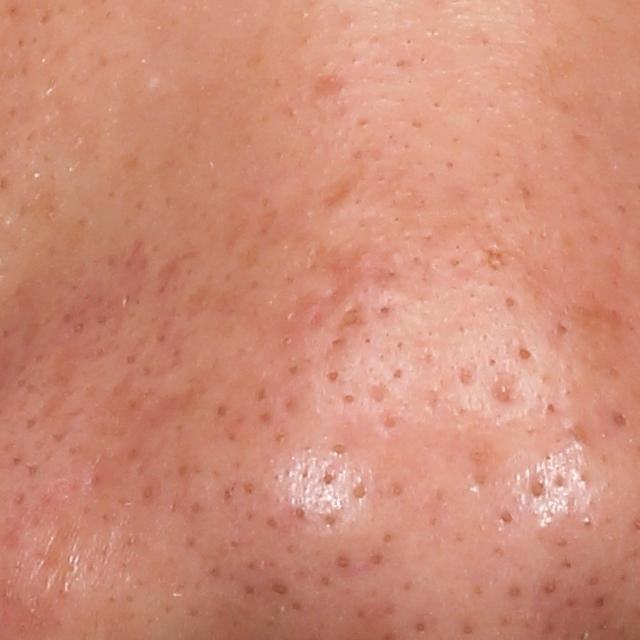comedo: (490, 379, 520, 411), (610, 409, 632, 431), (332, 552, 353, 573), (351, 478, 370, 501), (528, 478, 547, 500), (327, 443, 351, 460), (517, 342, 535, 364), (316, 470, 336, 488), (496, 508, 515, 526), (502, 295, 520, 314), (324, 369, 341, 386), (543, 581, 560, 597), (270, 581, 288, 596), (506, 585, 524, 600), (543, 399, 558, 416), (292, 504, 306, 521), (413, 620, 427, 635), (592, 595, 607, 609), (342, 392, 356, 405)
